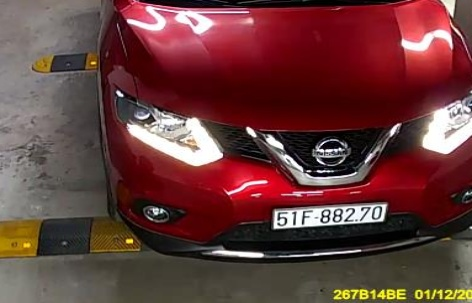plate: (263, 200, 385, 230)
